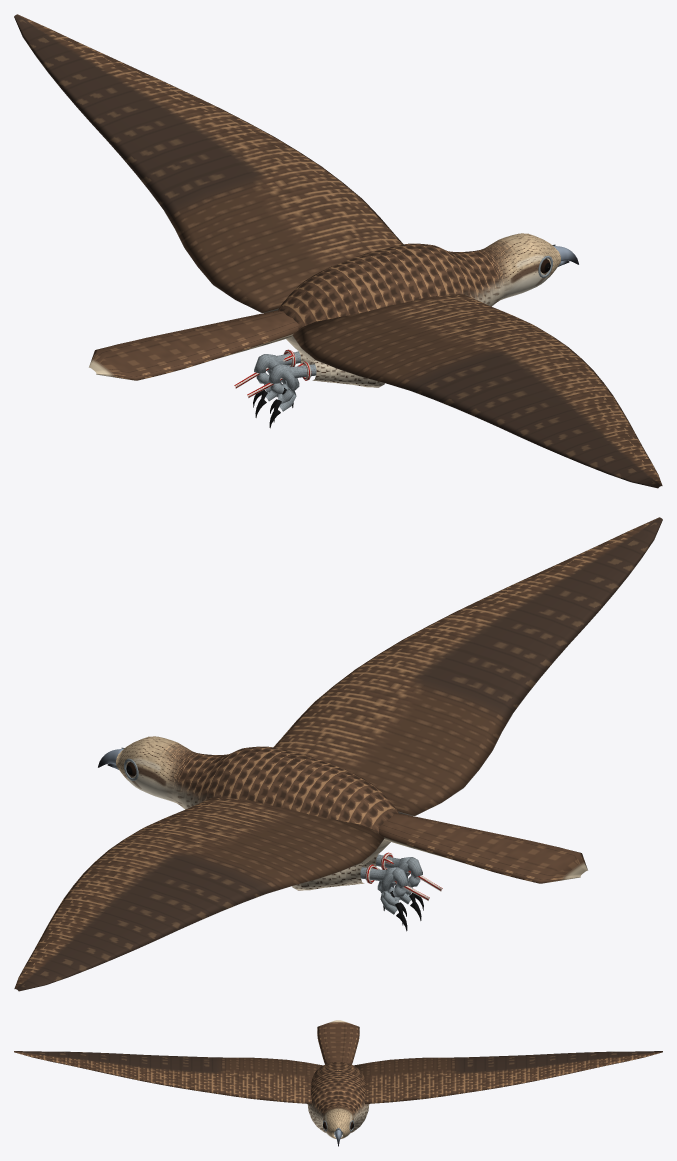
The model's file is saker_flight.glb.
3 views of the same model, one above another, from view 1: azimuth 30°, elevation 25°; view 2: azimuth 150°, elevation 25°; view 3: azimuth 270°, elevation 25° (orthographic). The views are drawn at different scales.
Visible parts, largest first — view 1: saker_body; view 2: saker_body; view 3: saker_body.
Part boxes in pixels (x1,y1,x2,y2): saker_body: (14, 14, 662, 488); saker_body: (14, 517, 662, 991); saker_body: (14, 1020, 662, 1146).
Size of the model in its own units: 0.5194 by 0.1575 by 1.19.
1 material, 1 textured.
